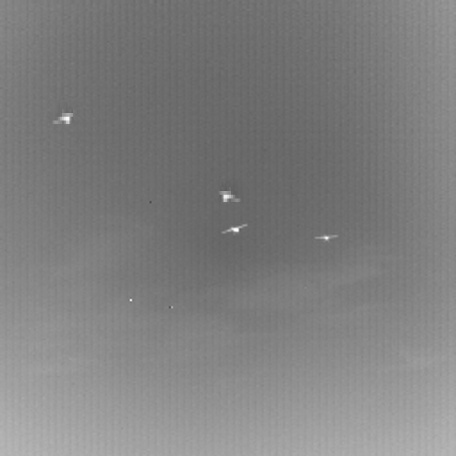plane: (47, 98, 77, 128), (216, 175, 246, 205), (312, 228, 337, 245), (218, 219, 244, 233)
